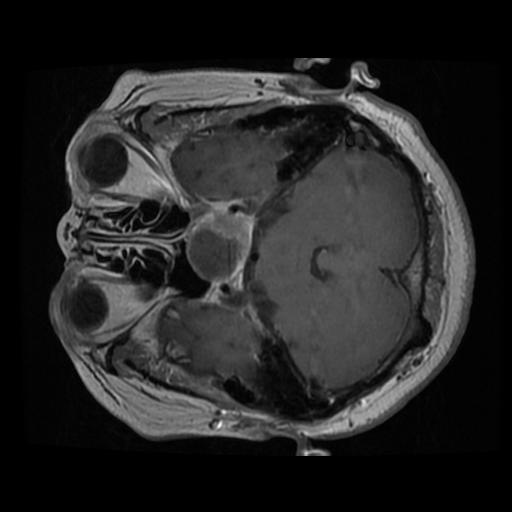pituitary tumour: (186, 201, 254, 284)
